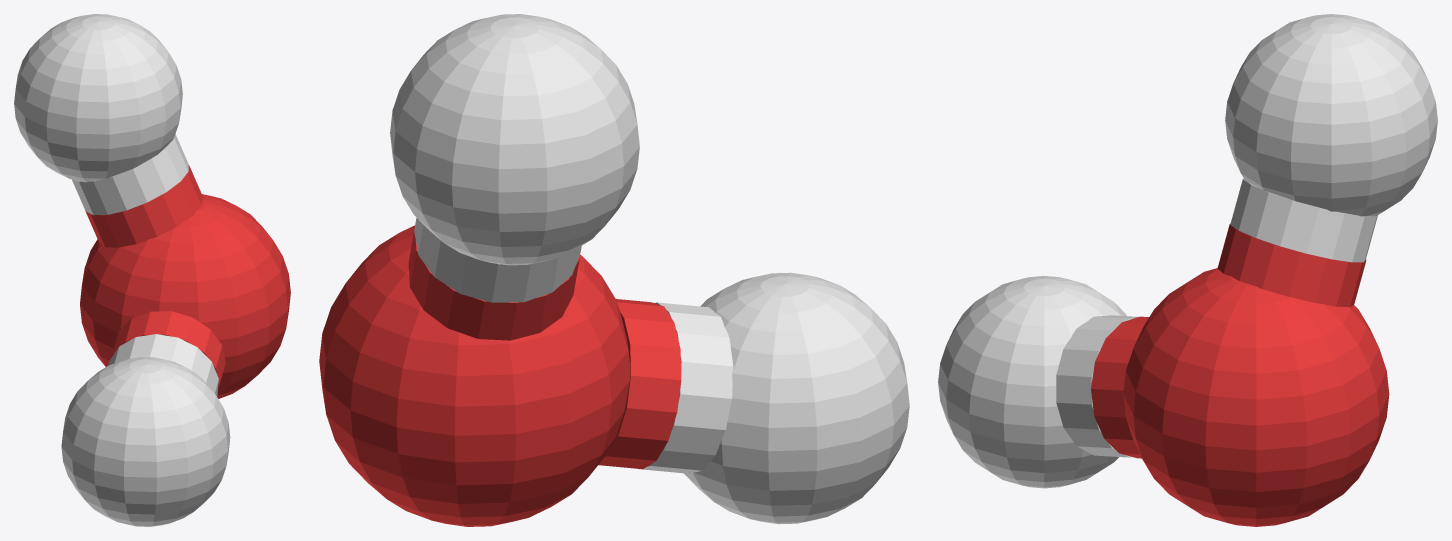
Rendered from water.fbx.
The picture shows the model from 3 angles, left to right: view 1: azimuth 30°, elevation 25°; view 2: azimuth 150°, elevation 25°; view 3: azimuth 270°, elevation 25°; orthographic projection. The views are drawn at different scales.
Parts seen in each view (by area): view 1: ShapeSphere, ShapeSphere.002, ShapeSphere.001, ShapeCylinder.001, ShapeCylinder, ShapeCylinder.002, ShapeCylinder.003; view 2: ShapeSphere, ShapeSphere.001, ShapeSphere.002, ShapeCylinder.003, ShapeCylinder.002, ShapeCylinder, ShapeCylinder.001; view 3: ShapeSphere, ShapeSphere.001, ShapeSphere.002, ShapeCylinder.001, ShapeCylinder, ShapeCylinder.003, ShapeCylinder.002.
Part boxes in pixels (x1,y1,x2,y2): ShapeSphere: (80,194,290,398); ShapeSphere.002: (61,357,230,526); ShapeSphere.001: (14,14,182,182); ShapeCylinder.001: (72,134,188,215); ShapeCylinder: (85,165,203,247); ShapeCylinder.002: (111,311,225,389); ShapeCylinder.003: (108,334,218,396); ShapeSphere: (319,225,630,526); ShapeSphere.001: (390,14,639,265); ShapeSphere.002: (684,272,909,524); ShapeCylinder.003: (637,302,733,473); ShapeCylinder.002: (598,299,681,469); ShapeCylinder: (408,231,579,340); ShapeCylinder.001: (414,217,581,302); ShapeSphere: (1123,268,1389,526); ShapeSphere.001: (1225,14,1437,216); ShapeSphere.002: (938,276,1126,488); ShapeCylinder.001: (1230,178,1377,262); ShapeCylinder: (1217,223,1366,306); ShapeCylinder.003: (1056,315,1137,457); ShapeCylinder.002: (1091,316,1149,458).
Bounding box in the file's own units: 142 × 185 × 169.
